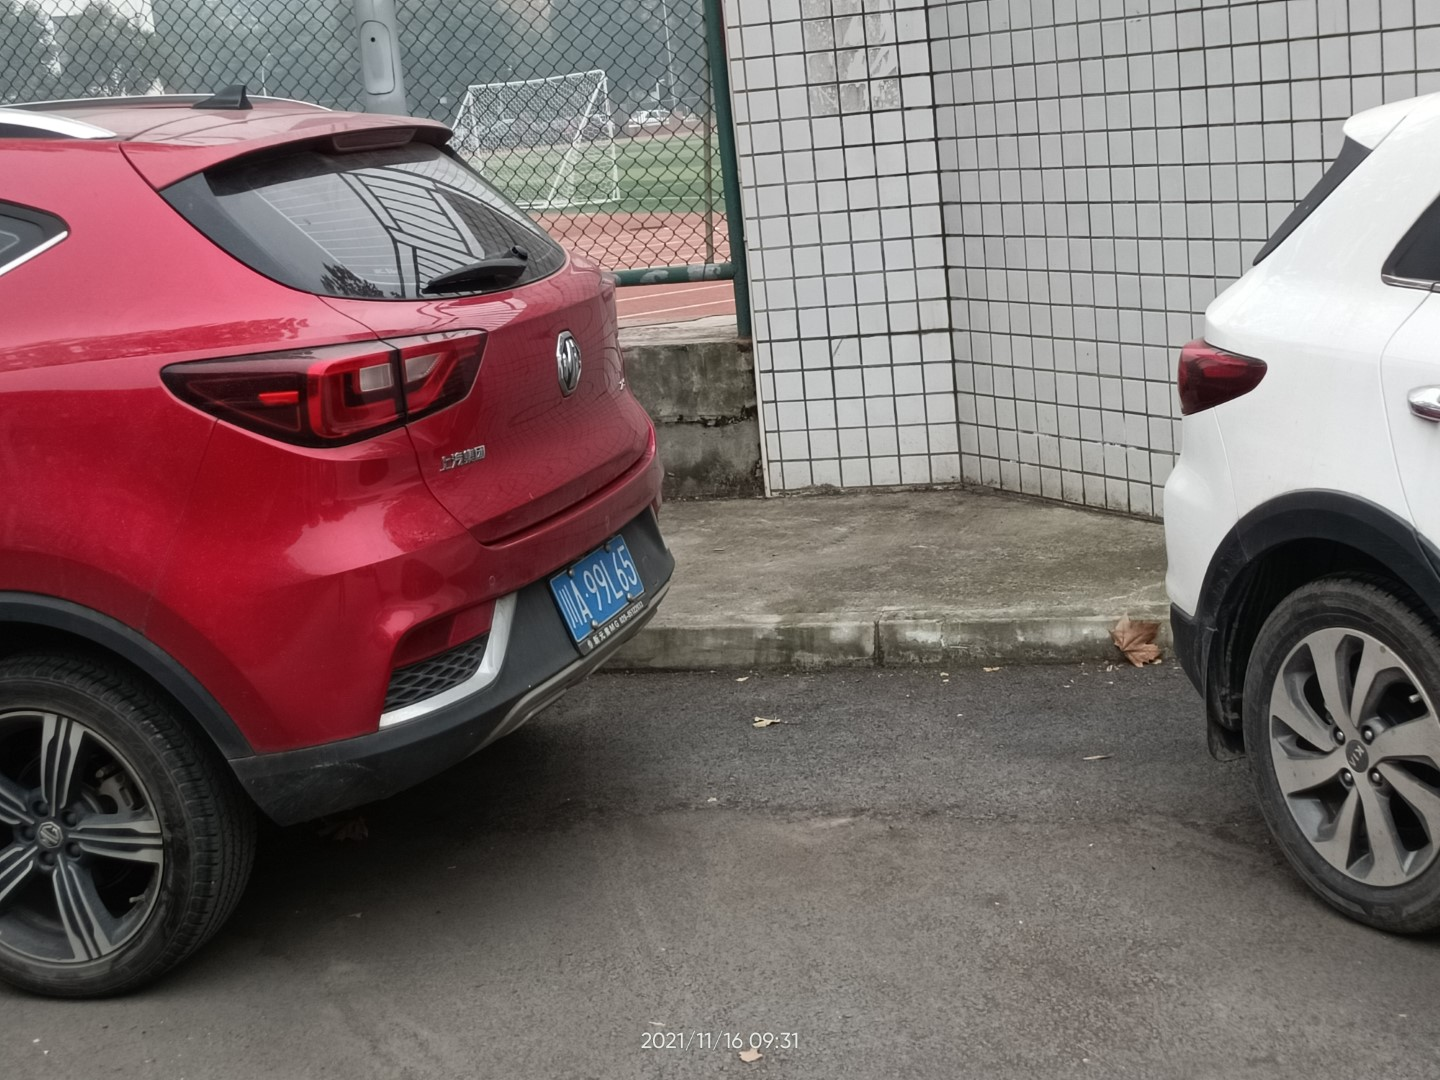plate: (548, 534, 646, 642)
